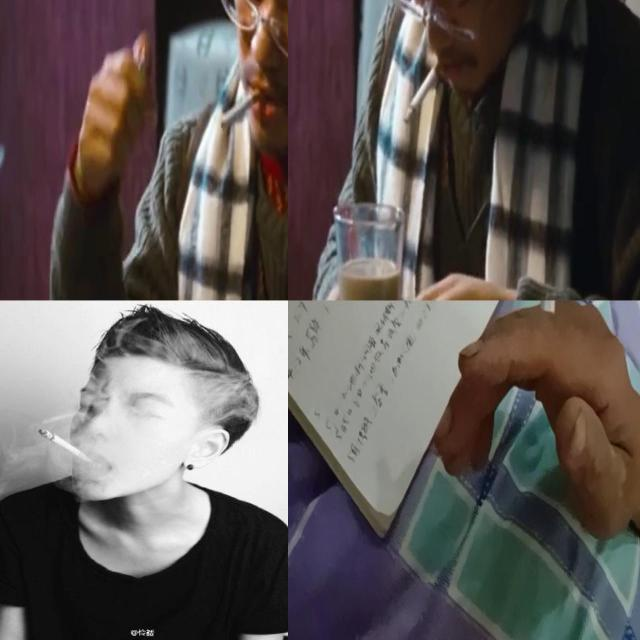smoking: (402, 58, 446, 124), (534, 300, 560, 402), (36, 427, 96, 465), (218, 87, 264, 134)
